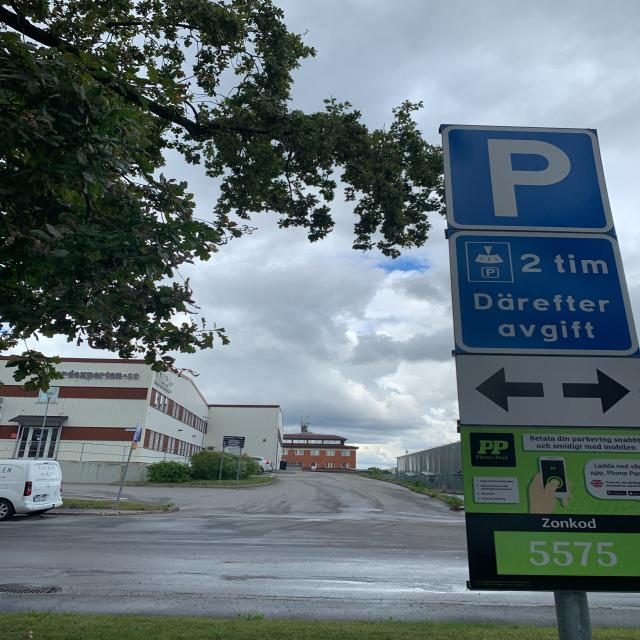psign: (440, 125, 614, 232)
